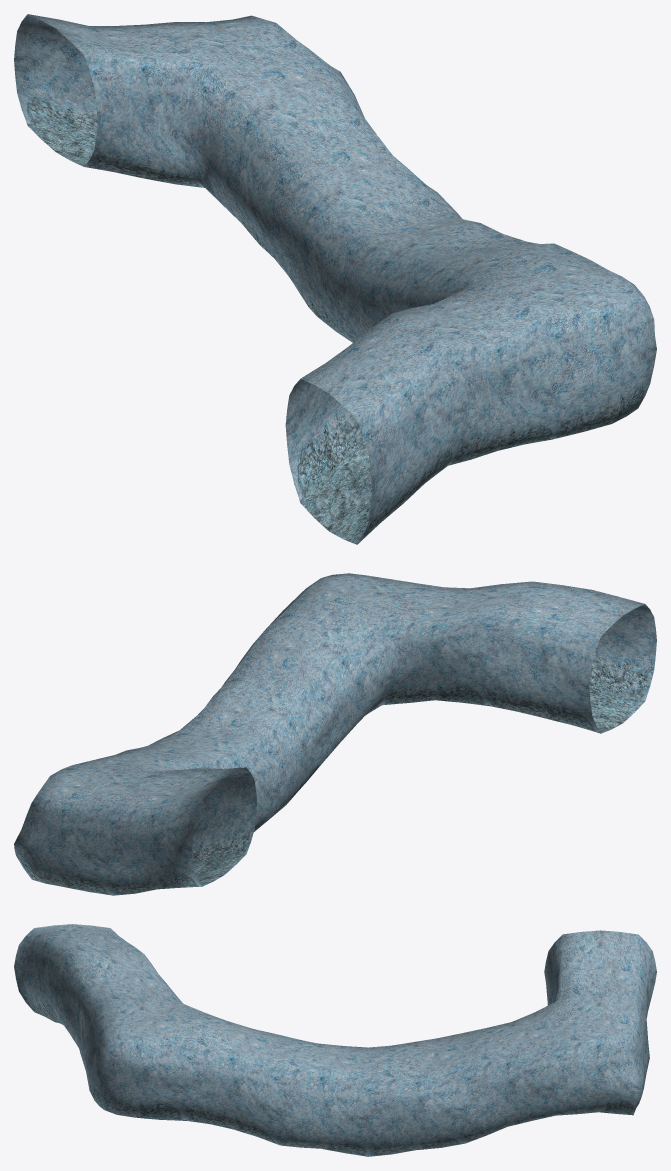
The model's file is thm_all_cave_flatland_s03_ice_r14_r14.fbx.
3 views of the same model, one above another, from view 1: azimuth 30°, elevation 25°; view 2: azimuth 150°, elevation 25°; view 3: azimuth 270°, elevation 25° (orthographic). The views are drawn at different scales.
Visible parts, largest first — view 1: mesh_node; view 2: mesh_node; view 3: mesh_node.
Boxes of the visible parts, bbox=[...] form: mesh_node: bbox=[14, 14, 656, 544]; mesh_node: bbox=[14, 573, 656, 895]; mesh_node: bbox=[14, 924, 656, 1156].
Bounding box in the file's own units: 25.32 × 15.04 × 55.57.
